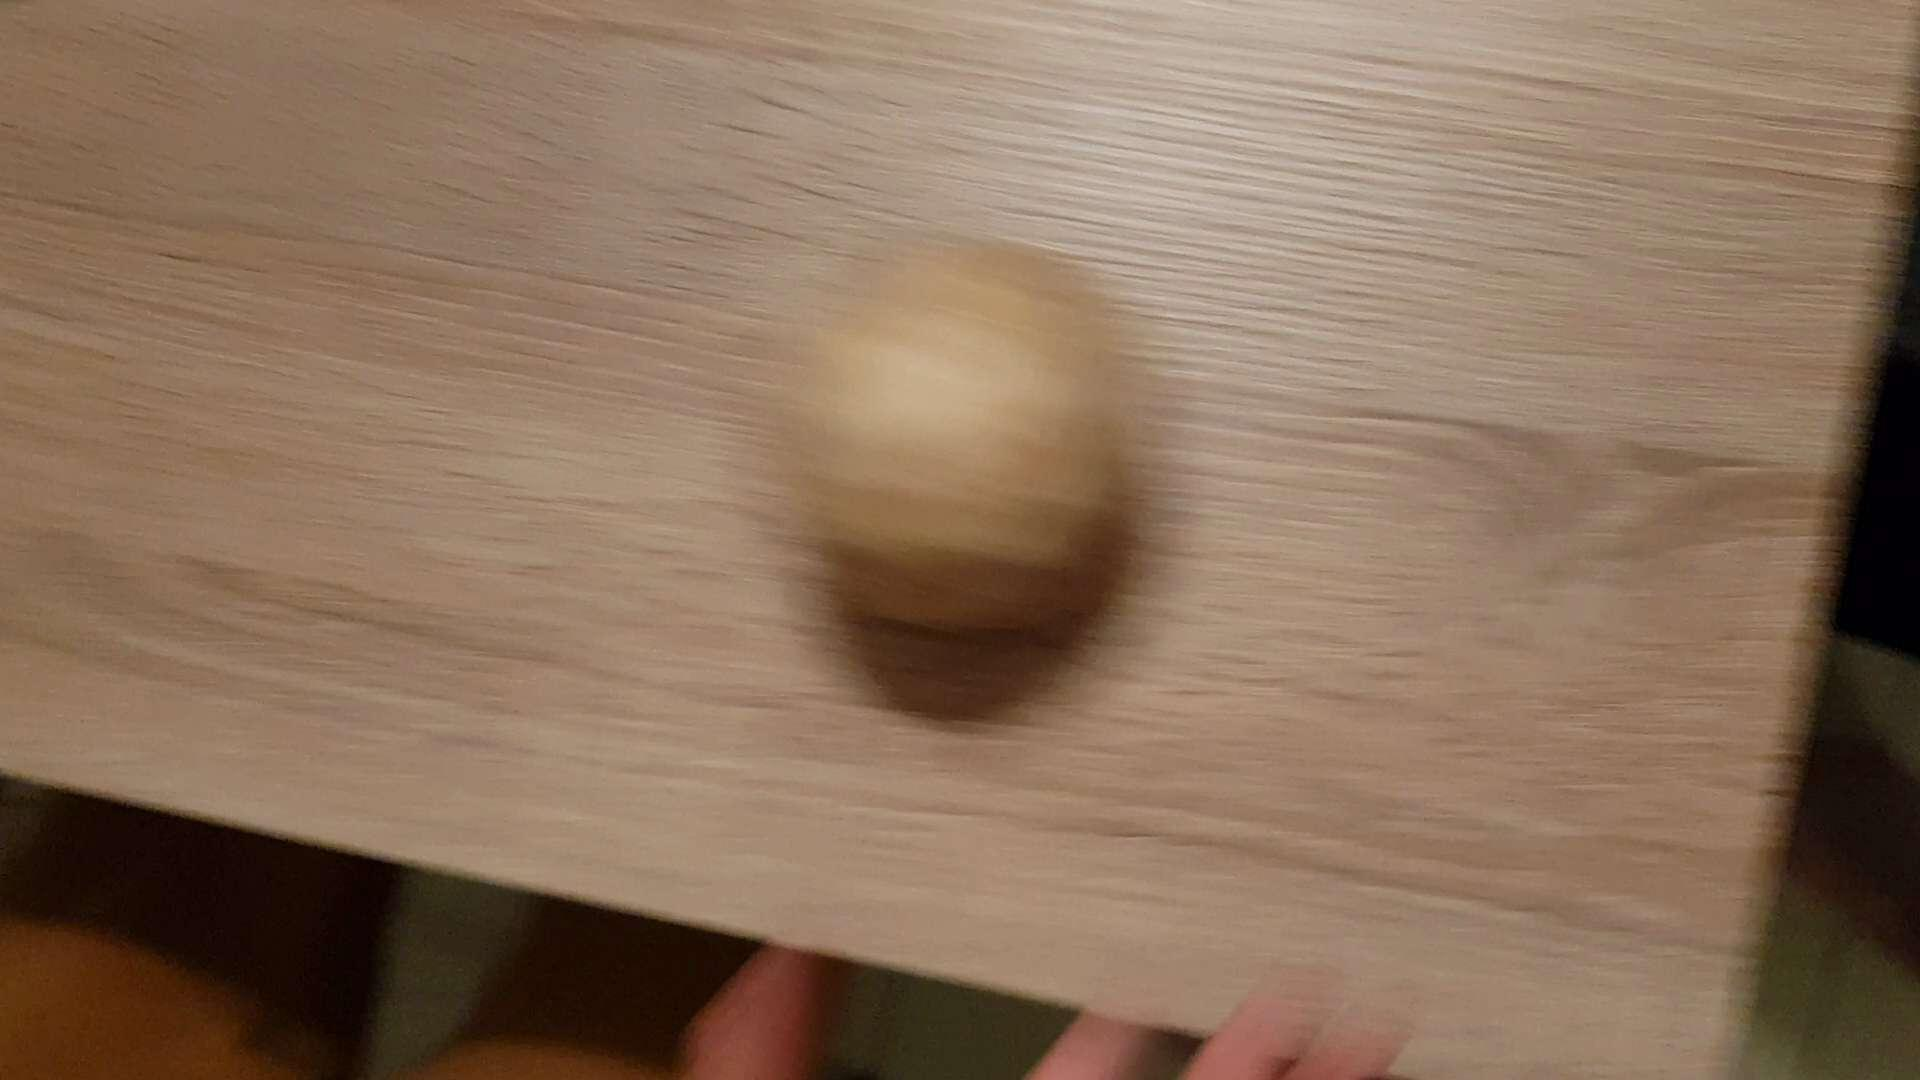Sphere: (773, 219, 1143, 645)
